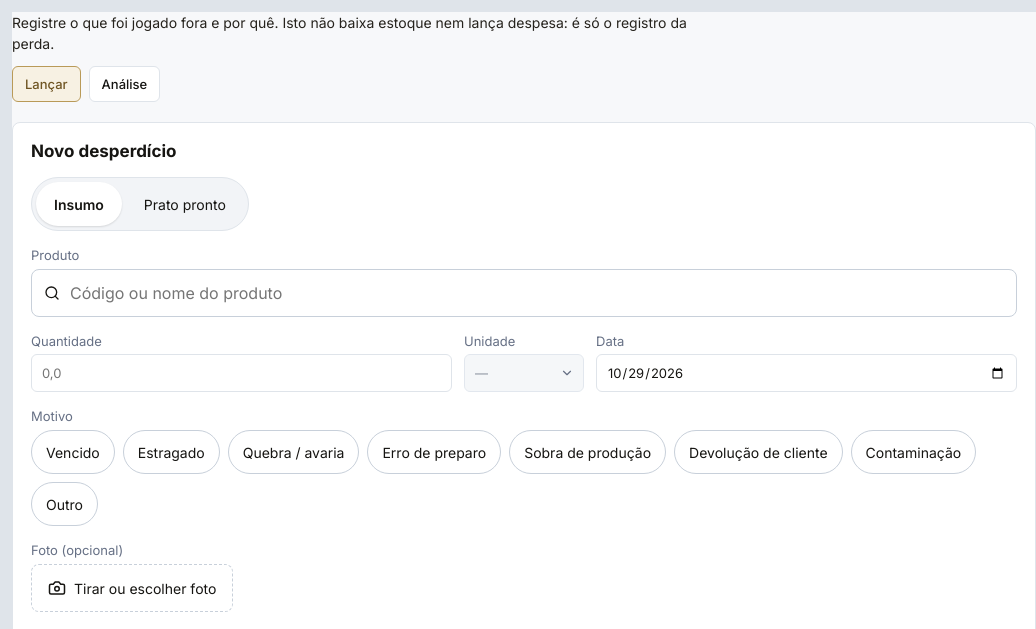
Scenario: Desperdicio: insumo ou prato pronto › trocar de modo descarta a escolha do outro tipo, inclusive as sugestões
In the search field named "buscar produto": (536, 293) [68,282,1004,304], type "salm"
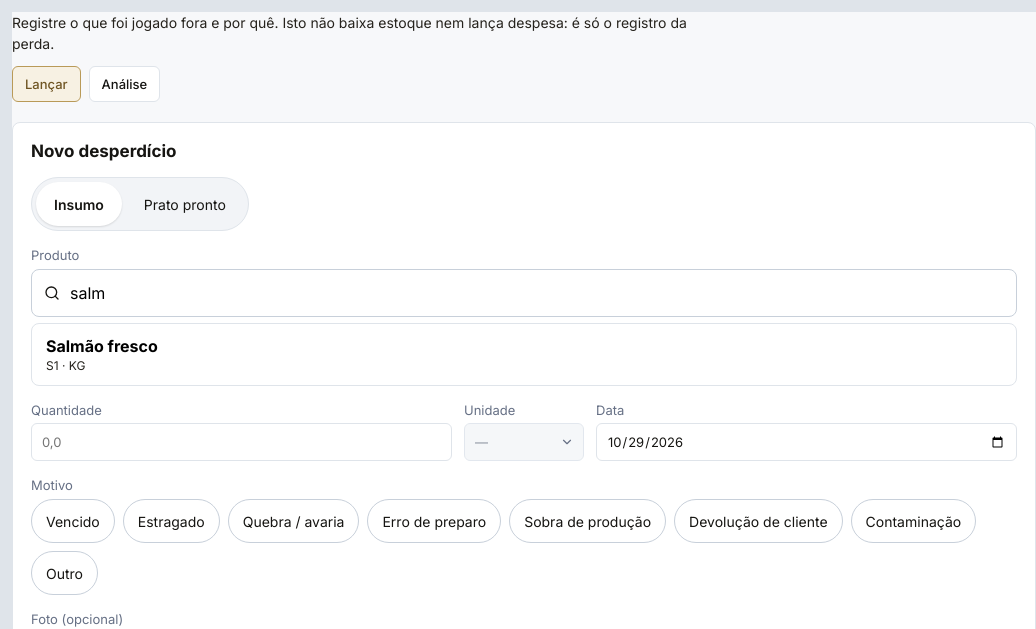
Click the text "Salmão fresco": (102, 346) [46,336,158,356]
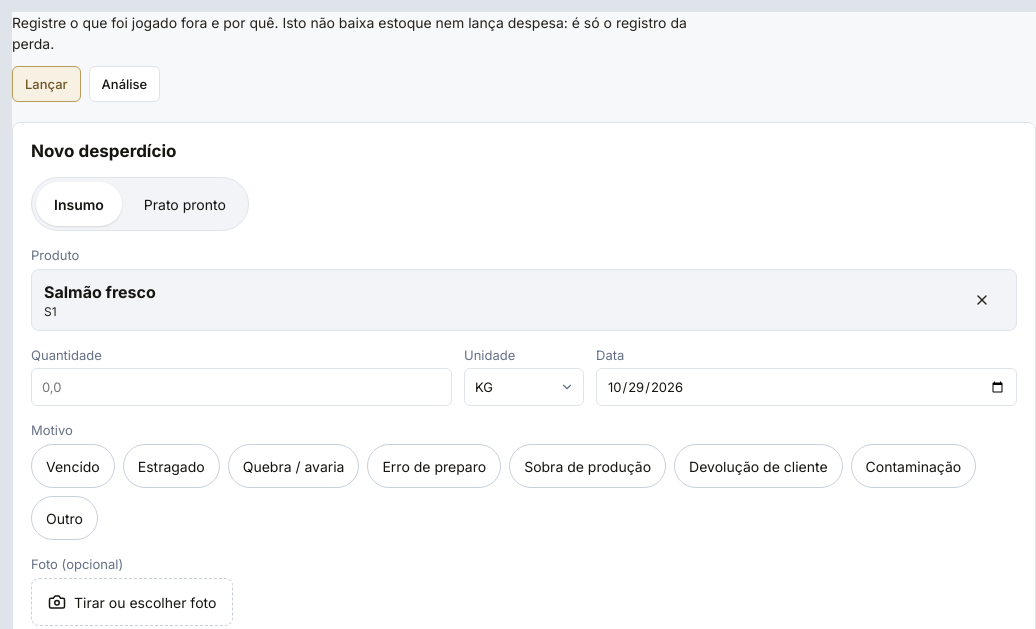
Expected: the text "Salmão fresco" is shown, [44,282,156,302]
Click the button "Prato pronto": (185, 204) [126,182,244,226]
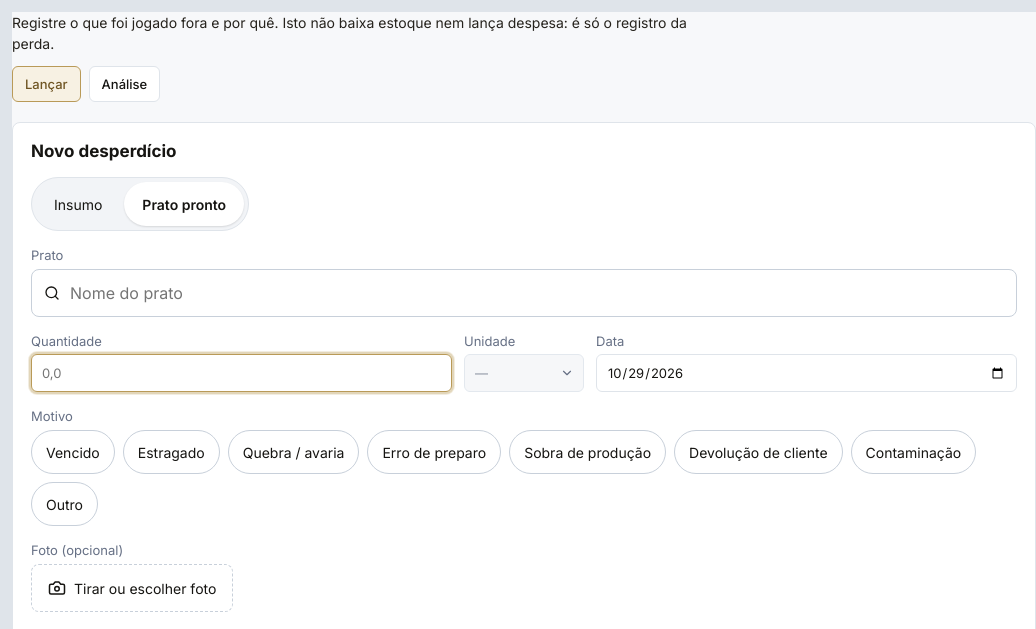
Expected: the text "Salmão fresco" is gone
Expected: the search field named "buscar prato" is shown, [68,282,1004,304]
